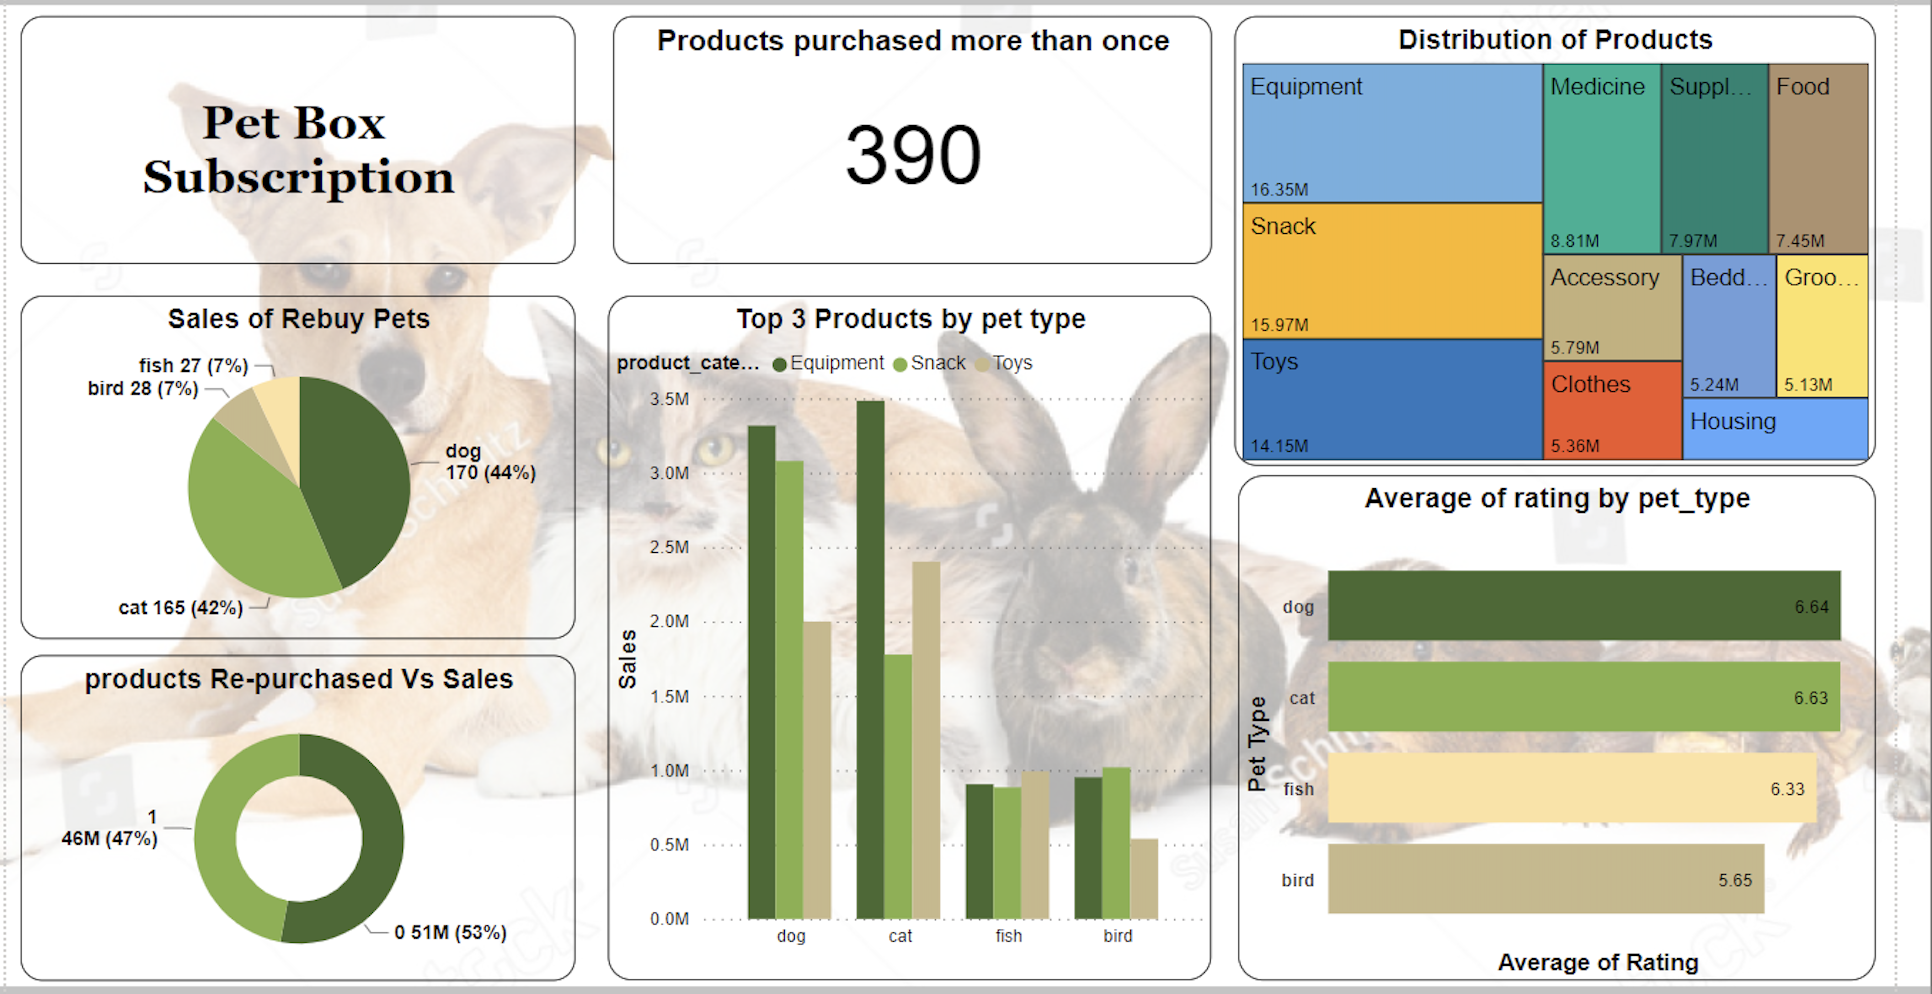

The page's visual inventory and layout, read from the dashboard file:
{"tool":"powerbi","page":{"name":"Page 1","canvas":[1280,720],"ordinal":0},"visuals":[{"type":"card","title":"Products purchased more than once ","fields":{"Values":["Count(pet_sales.product_id)"]},"box":[411.3,37.4,405.2,167.6],"z":0},{"type":"donutChart","title":"products Re-purchased Vs Sales","fields":{"Category":["pet_sales.re_buy"],"Y":["Sum(pet_sales.sales)"]},"box":[9.6,470.4,376.3,220.7],"z":1000},{"type":"pieChart","title":"Sales of Rebuy Pets","fields":{"Category":["pet_sales.pet_type"],"Y":["Sum(pet_sales.re_buy)"]},"box":[10,226.2,376.2,232.5],"z":2000},{"type":"clusteredColumnChart","title":"Top 3 Products by pet type","fields":{"Category":["pet_sales.pet_type"],"Series":["pet_sales.product_category"],"Y":["Sum(pet_sales.sales)"]},"box":[407.6,226.7,408.8,464.3],"z":3000},{"type":"barChart","fields":{"Category":["pet_sales.pet_type"],"Y":["Avg(pet_sales.rating)"]},"box":[834.6,348.5,431.8,342.5],"z":4000},{"type":"treemap","title":"Distribution of Products","fields":{"Group":["pet_sales.product_category"],"Values":["Sum(pet_sales.sales)"]},"box":[832.2,37.4,434.2,305.1],"z":5000},{"type":"textbox","box":[9.6,37.4,376.3,167.6],"z":6000}]}

Visuals, with their boxes in screenshot pixels (x1, y1, x2, y2):
"Products purchased more than once " card: bbox(613, 15, 1208, 260)
"products Re-purchased Vs Sales" donutChart: bbox(24, 650, 576, 973)
"Sales of Rebuy Pets" pieChart: bbox(25, 291, 576, 632)
"Top 3 Products by pet type" clusteredColumnChart: bbox(608, 292, 1207, 973)
barChart - pet_sales.pet_type x Avg(pet_sales.rating): bbox(1234, 471, 1867, 973)
"Distribution of Products" treemap: bbox(1231, 15, 1867, 462)
textbox: bbox(24, 15, 576, 260)
